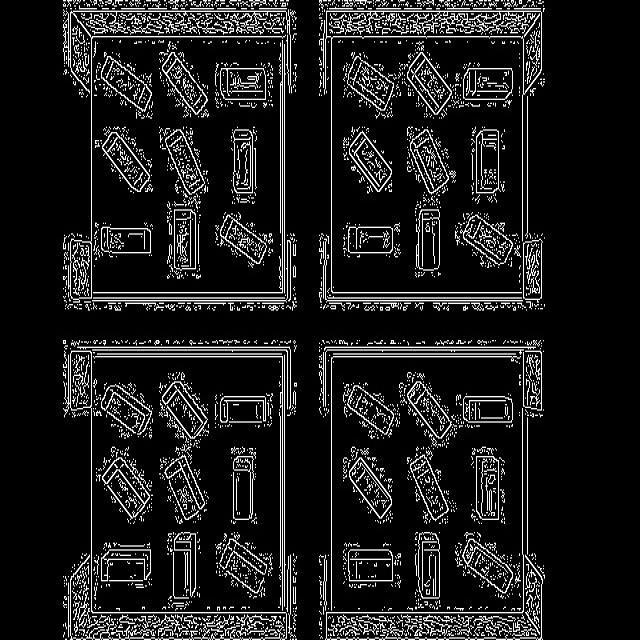Battery: (335, 443, 397, 532), (212, 528, 276, 605), (452, 529, 518, 600), (98, 446, 154, 526), (406, 442, 457, 529), (339, 125, 395, 204), (223, 450, 274, 532), (397, 370, 458, 438), (158, 447, 210, 526), (343, 370, 399, 440), (95, 127, 152, 193), (402, 48, 456, 117), (96, 52, 152, 118), (458, 211, 514, 276), (160, 373, 209, 447), (405, 127, 456, 198), (160, 42, 208, 117), (160, 128, 208, 203), (97, 534, 155, 592), (466, 125, 513, 196), (345, 53, 397, 116), (215, 213, 272, 268), (162, 534, 202, 610), (461, 52, 514, 109), (468, 448, 507, 525), (409, 534, 446, 610), (100, 385, 152, 437), (347, 541, 398, 592), (216, 63, 272, 108), (168, 203, 198, 278), (465, 390, 518, 432), (94, 223, 151, 260), (416, 204, 444, 279), (217, 393, 272, 427), (232, 127, 256, 203), (343, 224, 399, 256)
